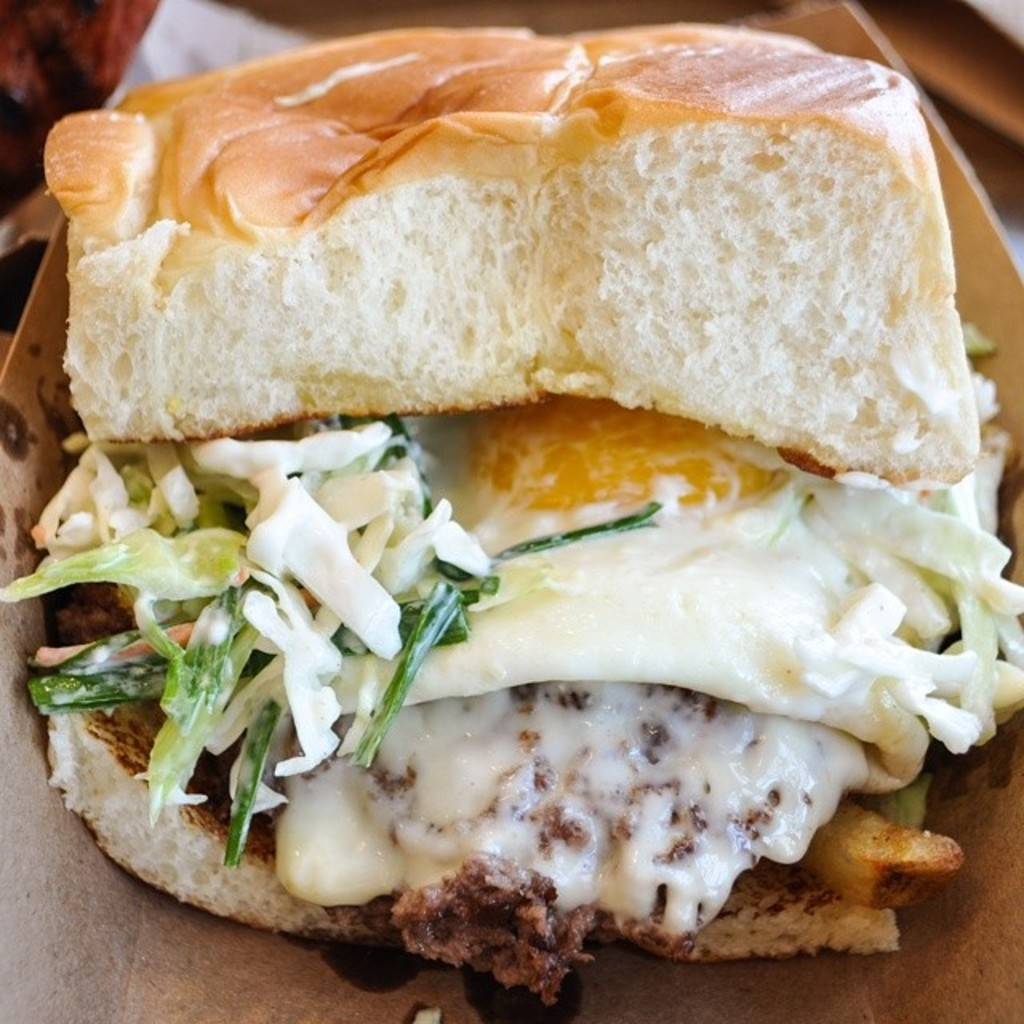Hamburger: (0, 20, 1022, 1004)
